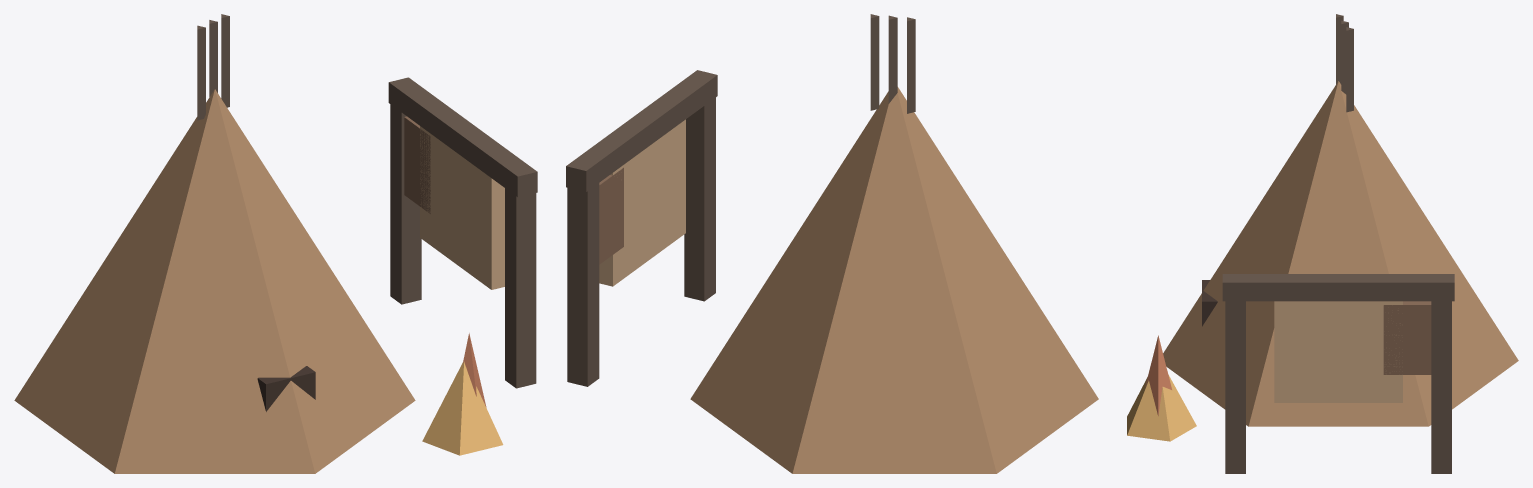
File: hunting_camp.glb
The picture shows the model from 3 angles, left to right: view 1: azimuth 30°, elevation 25°; view 2: azimuth 150°, elevation 25°; view 3: azimuth 270°, elevation 25°; orthographic projection. The views are drawn at different scales.
Parts seen in each view (by area): view 1: tent, hide, rack_post-1, rack_bar, rack_post1, fire, detail_hide2, door, detail_tentpole0, detail_tentpole2, detail_tentpole1, detail_flame; view 2: tent, hide, rack_post1, rack_post-1, rack_bar, detail_hide2, detail_tentpole2, detail_tentpole0, detail_tentpole1; view 3: tent, hide, rack_bar, rack_post-1, rack_post1, detail_hide2, fire, detail_flame, detail_tentpole2, detail_tentpole1, detail_tentpole0.
Part boxes in pixels (box(x1,y1,x2,y2)): tent: box(14, 89, 415, 473); hide: box(420, 126, 504, 289); rack_post-1: box(505, 173, 536, 388); rack_bar: box(388, 77, 537, 197); rack_post1: box(390, 104, 421, 304); fire: box(422, 362, 503, 455); detail_hide2: box(404, 116, 430, 213); door: box(257, 366, 315, 411); detail_tentpole0: box(197, 25, 205, 120); detail_tentpole2: box(221, 14, 229, 107); detail_tentpole1: box(209, 20, 217, 96); detail_flame: box(463, 333, 486, 407); tent: box(690, 87, 1098, 473); hide: box(599, 119, 685, 286); rack_post1: box(567, 167, 599, 386); rack_post-1: box(684, 81, 715, 301); rack_bar: box(566, 70, 717, 191); detail_hide2: box(599, 167, 623, 264); detail_tentpole2: box(870, 14, 879, 110); detail_tentpole0: box(907, 17, 915, 113); detail_tentpole1: box(888, 15, 897, 103); tent: box(1163, 81, 1518, 426); hide: box(1274, 301, 1402, 402); rack_bar: box(1222, 274, 1454, 301); rack_post-1: box(1225, 287, 1245, 473); rack_post1: box(1431, 287, 1451, 473); detail_hide2: box(1383, 301, 1431, 374); fire: box(1127, 374, 1196, 441); detail_flame: box(1145, 335, 1171, 415); detail_tentpole2: box(1346, 27, 1353, 112); detail_tentpole1: box(1341, 20, 1348, 94); detail_tentpole0: box(1336, 14, 1343, 84).
Size of the model in its own units: 1.65 by 1.45 by 1.52.
